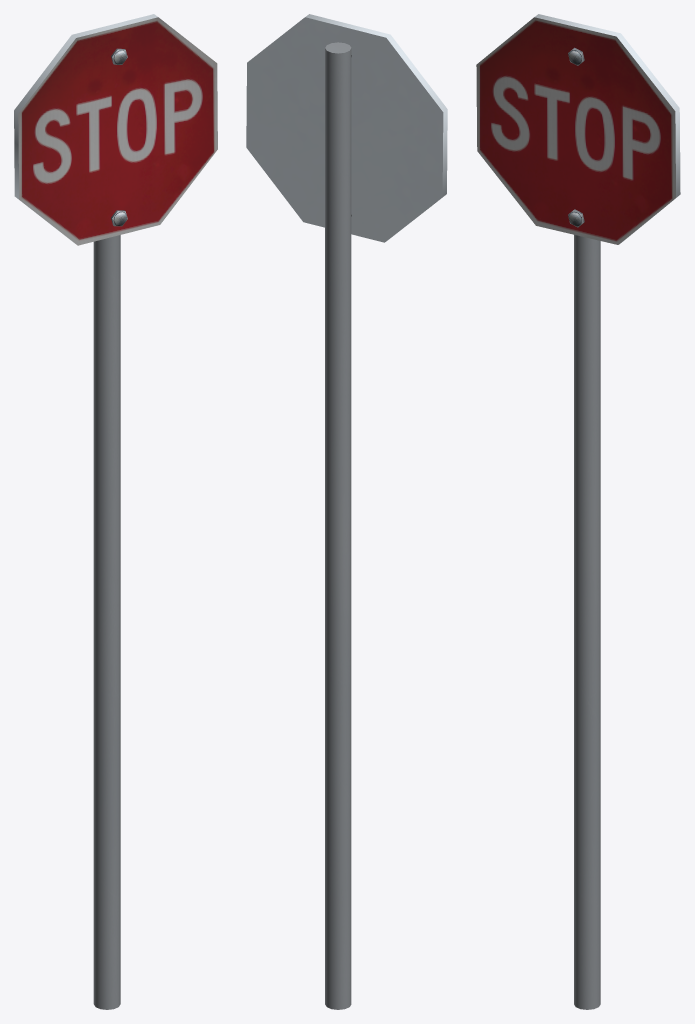
Rendered from StreetSigns_11.fbx.
3 views of the same model, side by side, from view 1: azimuth 30°, elevation 25°; view 2: azimuth 150°, elevation 25°; view 3: azimuth 330°, elevation 25° (orthographic).
Visible parts, largest first — view 1: StreetSigns_11; view 2: StreetSigns_11; view 3: StreetSigns_11.
Boxes of the visible parts, <box> form: StreetSigns_11: <box>14,14,217,1009</box>; StreetSigns_11: <box>246,14,447,1009</box>; StreetSigns_11: <box>476,14,680,1009</box>.
Size of the model in its own units: 0.8623 by 4.07 by 0.1481.
